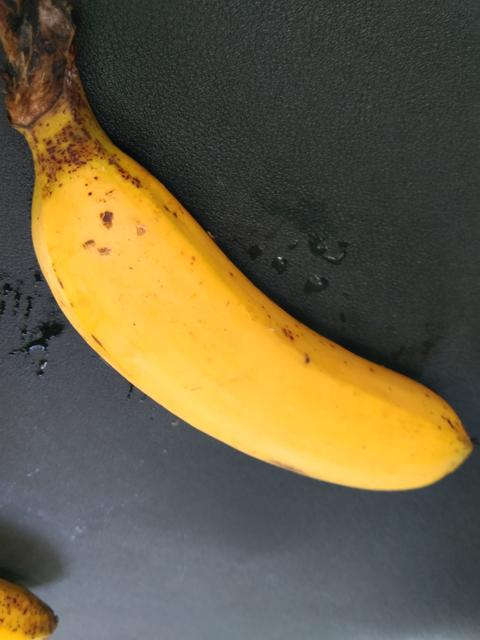freshripe: (26, 111, 479, 525)
